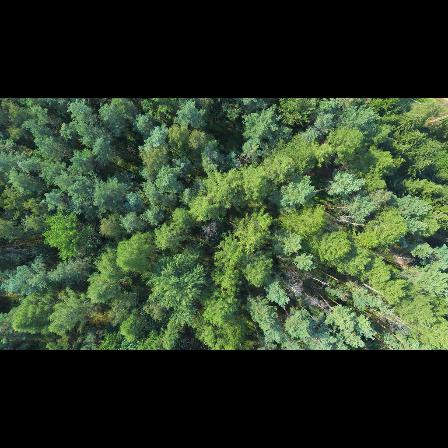Dead: (333, 211, 368, 233), (384, 315, 413, 336), (201, 223, 221, 242), (290, 275, 303, 299)
